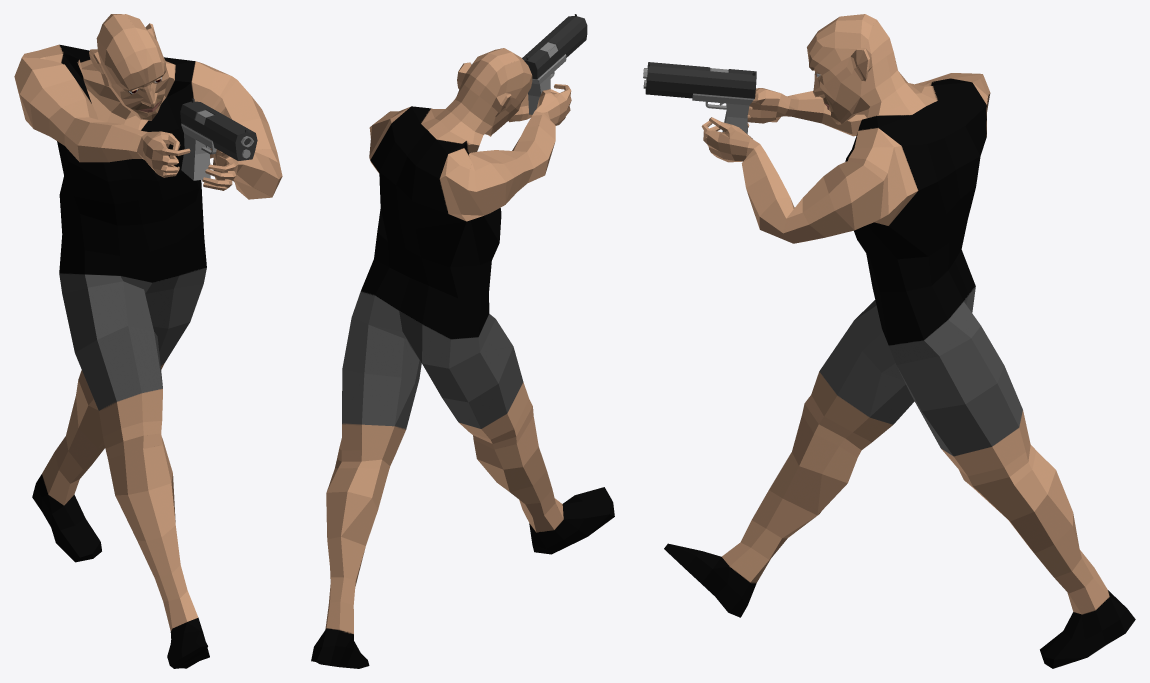
The model's file is PlayerWalk(15).obj.
3 renders of one model, left to right at view 1: azimuth 30°, elevation 25°; view 2: azimuth 150°, elevation 25°; view 3: azimuth 270°, elevation 25°, orthographic. The views are drawn at different scales.
Parts seen in each view (by area): view 1: Plane002, Box003; view 2: Plane002, Box003; view 3: Plane002, Box003.
Part boxes in pixels (x1=…): Plane002: x1=14, y1=14, x2=282, y2=668; Box003: x1=180, y1=98, x2=257, y2=180; Plane002: x1=311, y1=48, x2=614, y2=668; Box003: x1=522, y1=14, x2=587, y2=114; Plane002: x1=664, y1=14, x2=1135, y2=668; Box003: x1=643, y1=62, x2=756, y2=133.
Bounding box in the file's own units: 547 × 1696 × 1230.
